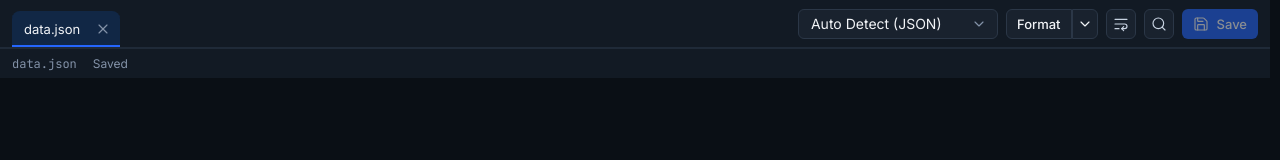
Scenario: EditorPane Format › keeps invalid JSON as it is and says what to fix
Check: the button "Format" is enabled, box [1006,8,1072,38]
Click the button named "More Format Options".
click(1084, 24)  # box [1072,8,1098,38]
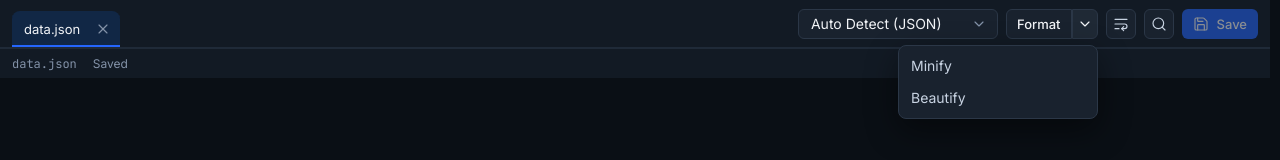
Click the menu item "Minify".
click(931, 66)  # box [911,57,952,74]
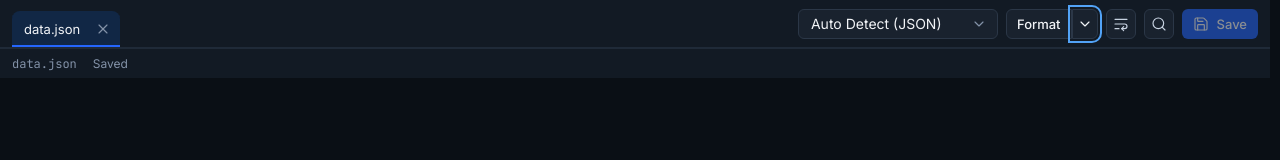
Check: the menu is gone
